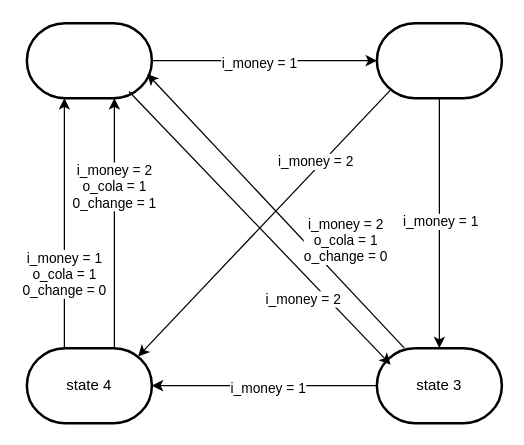
The diagram is 524 pixels wide and 445 high, and some of its shapes have lost their labels. Each missing label, with the centre of its shape:
IDLE (state 1): point (88, 60)
state 2: point (438, 60)
